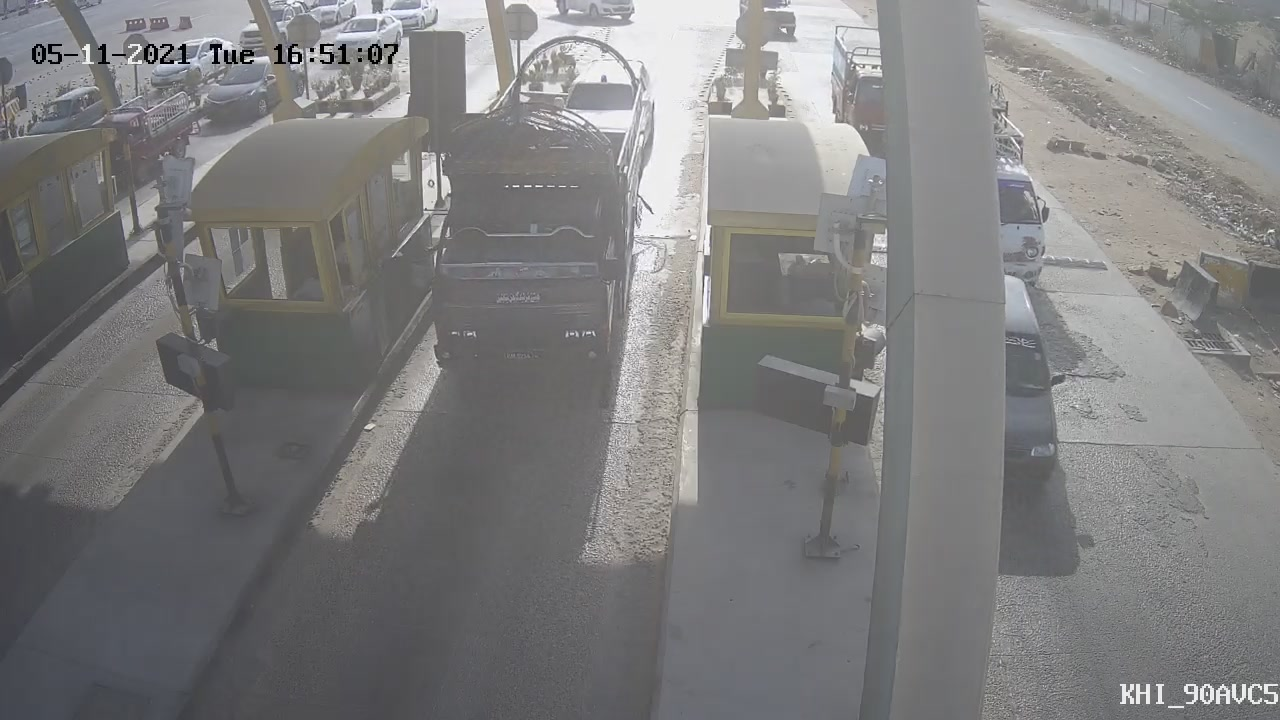F5: (395, 22, 677, 401)
